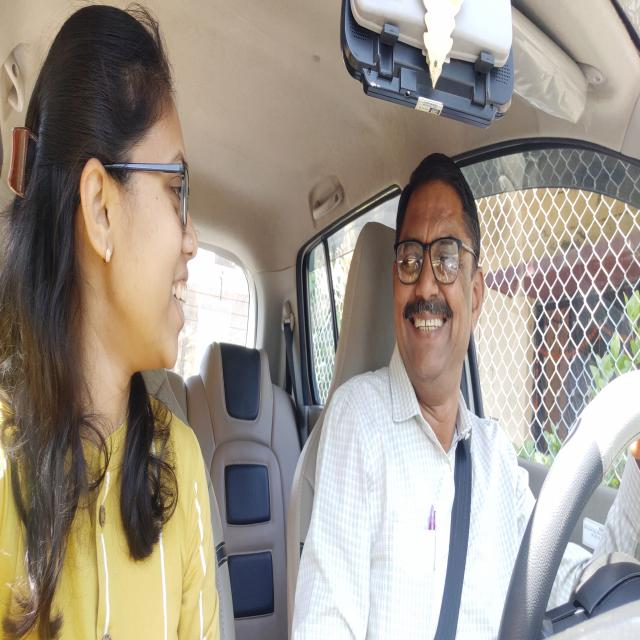person: (22, 4, 199, 418), (390, 147, 488, 412)
talking: (413, 300, 448, 340), (170, 269, 191, 328)
